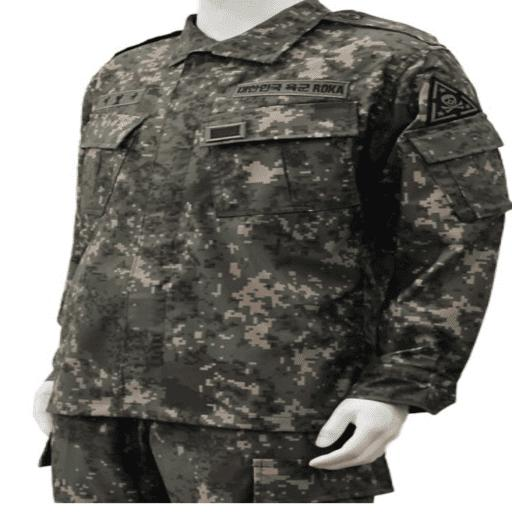korea army: (34, 0, 511, 503)
